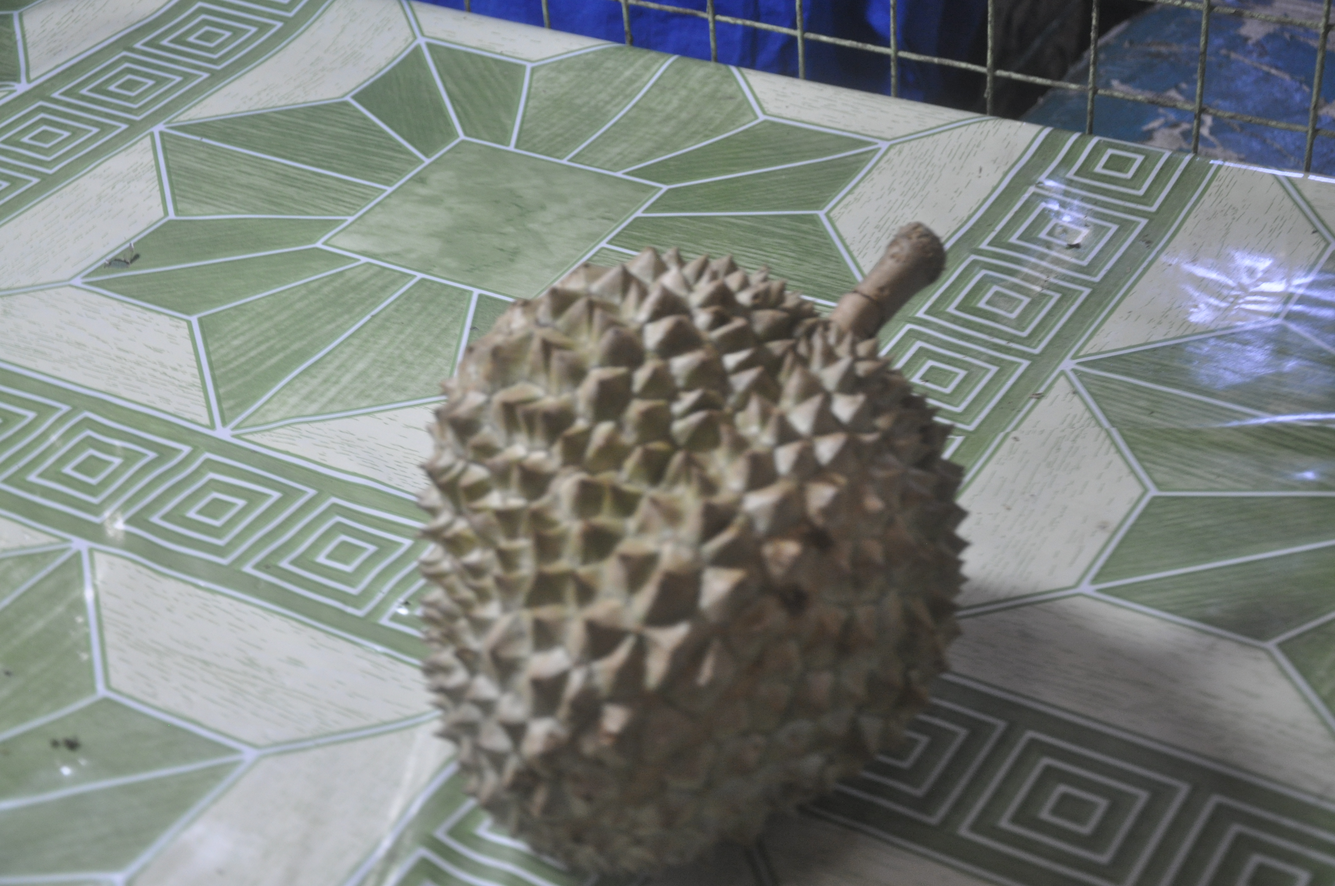mature: (419, 225, 964, 872)
